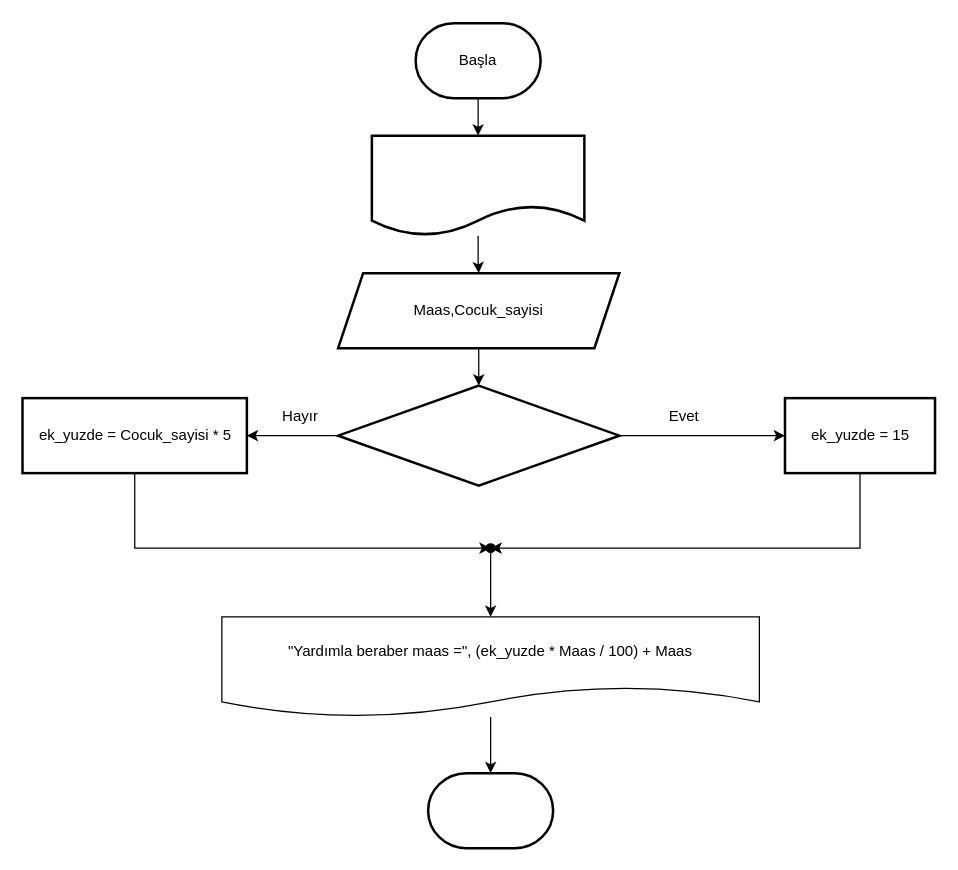
Image size: 958x870. Some labels were removed from this diagram. The shapes that lost their labels are listed below. From the top down, each one's centre as x and y in pixels, then its label:
(x=477, y=185): "İşçinin maaşını ve çocuk sayısını giriniz"
(x=478, y=435): Cocuk_sayisi >= 3
(x=490, y=810): Bitir
